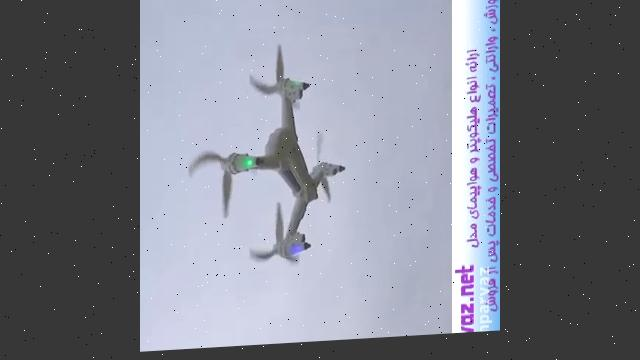drone: (185, 42, 348, 277)
